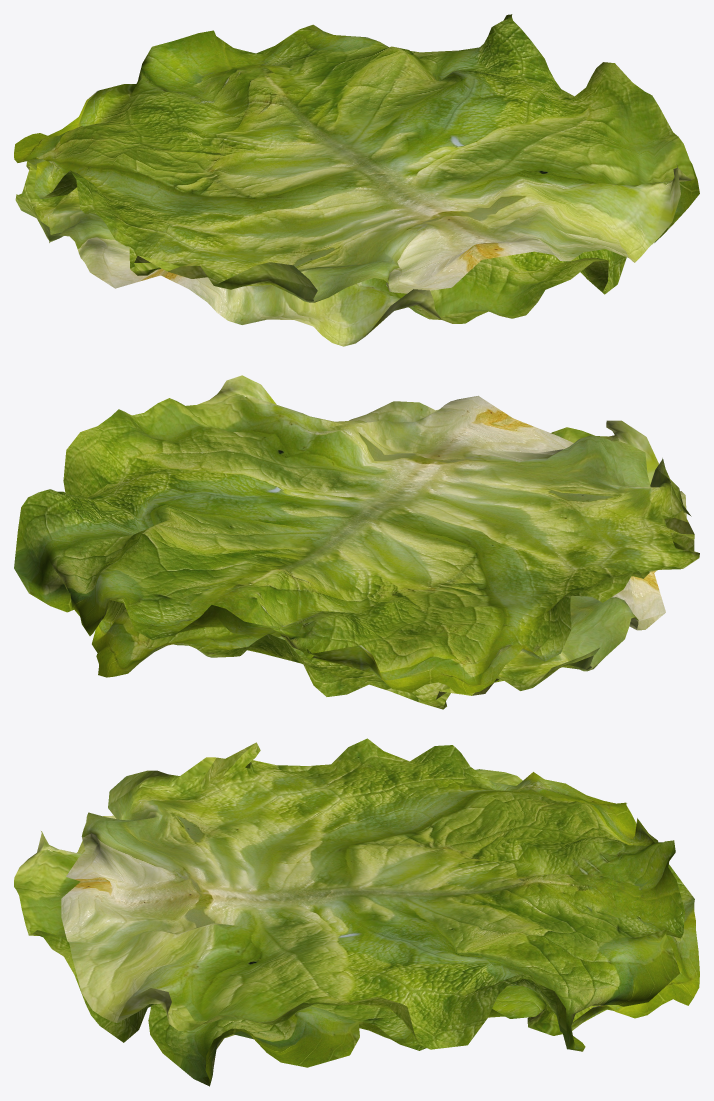
The model's file is lettuce.glb.
3 renders of one model, top to bottom at view 1: azimuth 30°, elevation 25°; view 2: azimuth 150°, elevation 25°; view 3: azimuth 270°, elevation 25°, orthographic. The views are drawn at different scales.
Parts seen in each view (by area): view 1: lettuceN2; view 2: lettuceN2; view 3: lettuceN2.
Part boxes in pixels (left/top/right/bottom): lettuceN2: left=14, top=14, right=699, bottom=346; lettuceN2: left=14, top=375, right=699, bottom=709; lettuceN2: left=14, top=738, right=699, bottom=1086.
Size of the model in its own units: 0.0987 by 0.0177 by 0.1009.
Materials: 1 (1 with a texture image).
